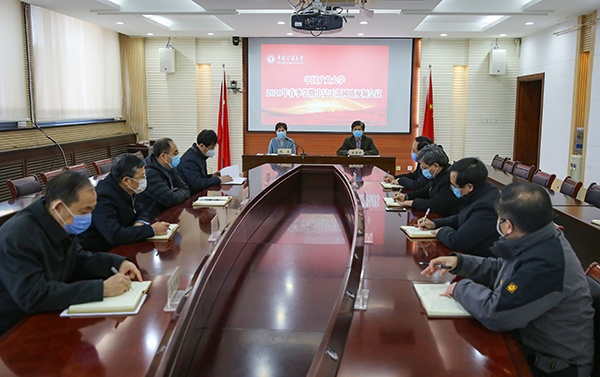correctlyWear: (52, 192, 97, 235), (495, 204, 524, 239), (120, 168, 147, 194), (449, 171, 475, 198), (157, 147, 181, 170), (417, 157, 440, 179), (410, 140, 432, 161), (199, 138, 219, 158), (349, 125, 366, 141), (273, 125, 289, 141)
